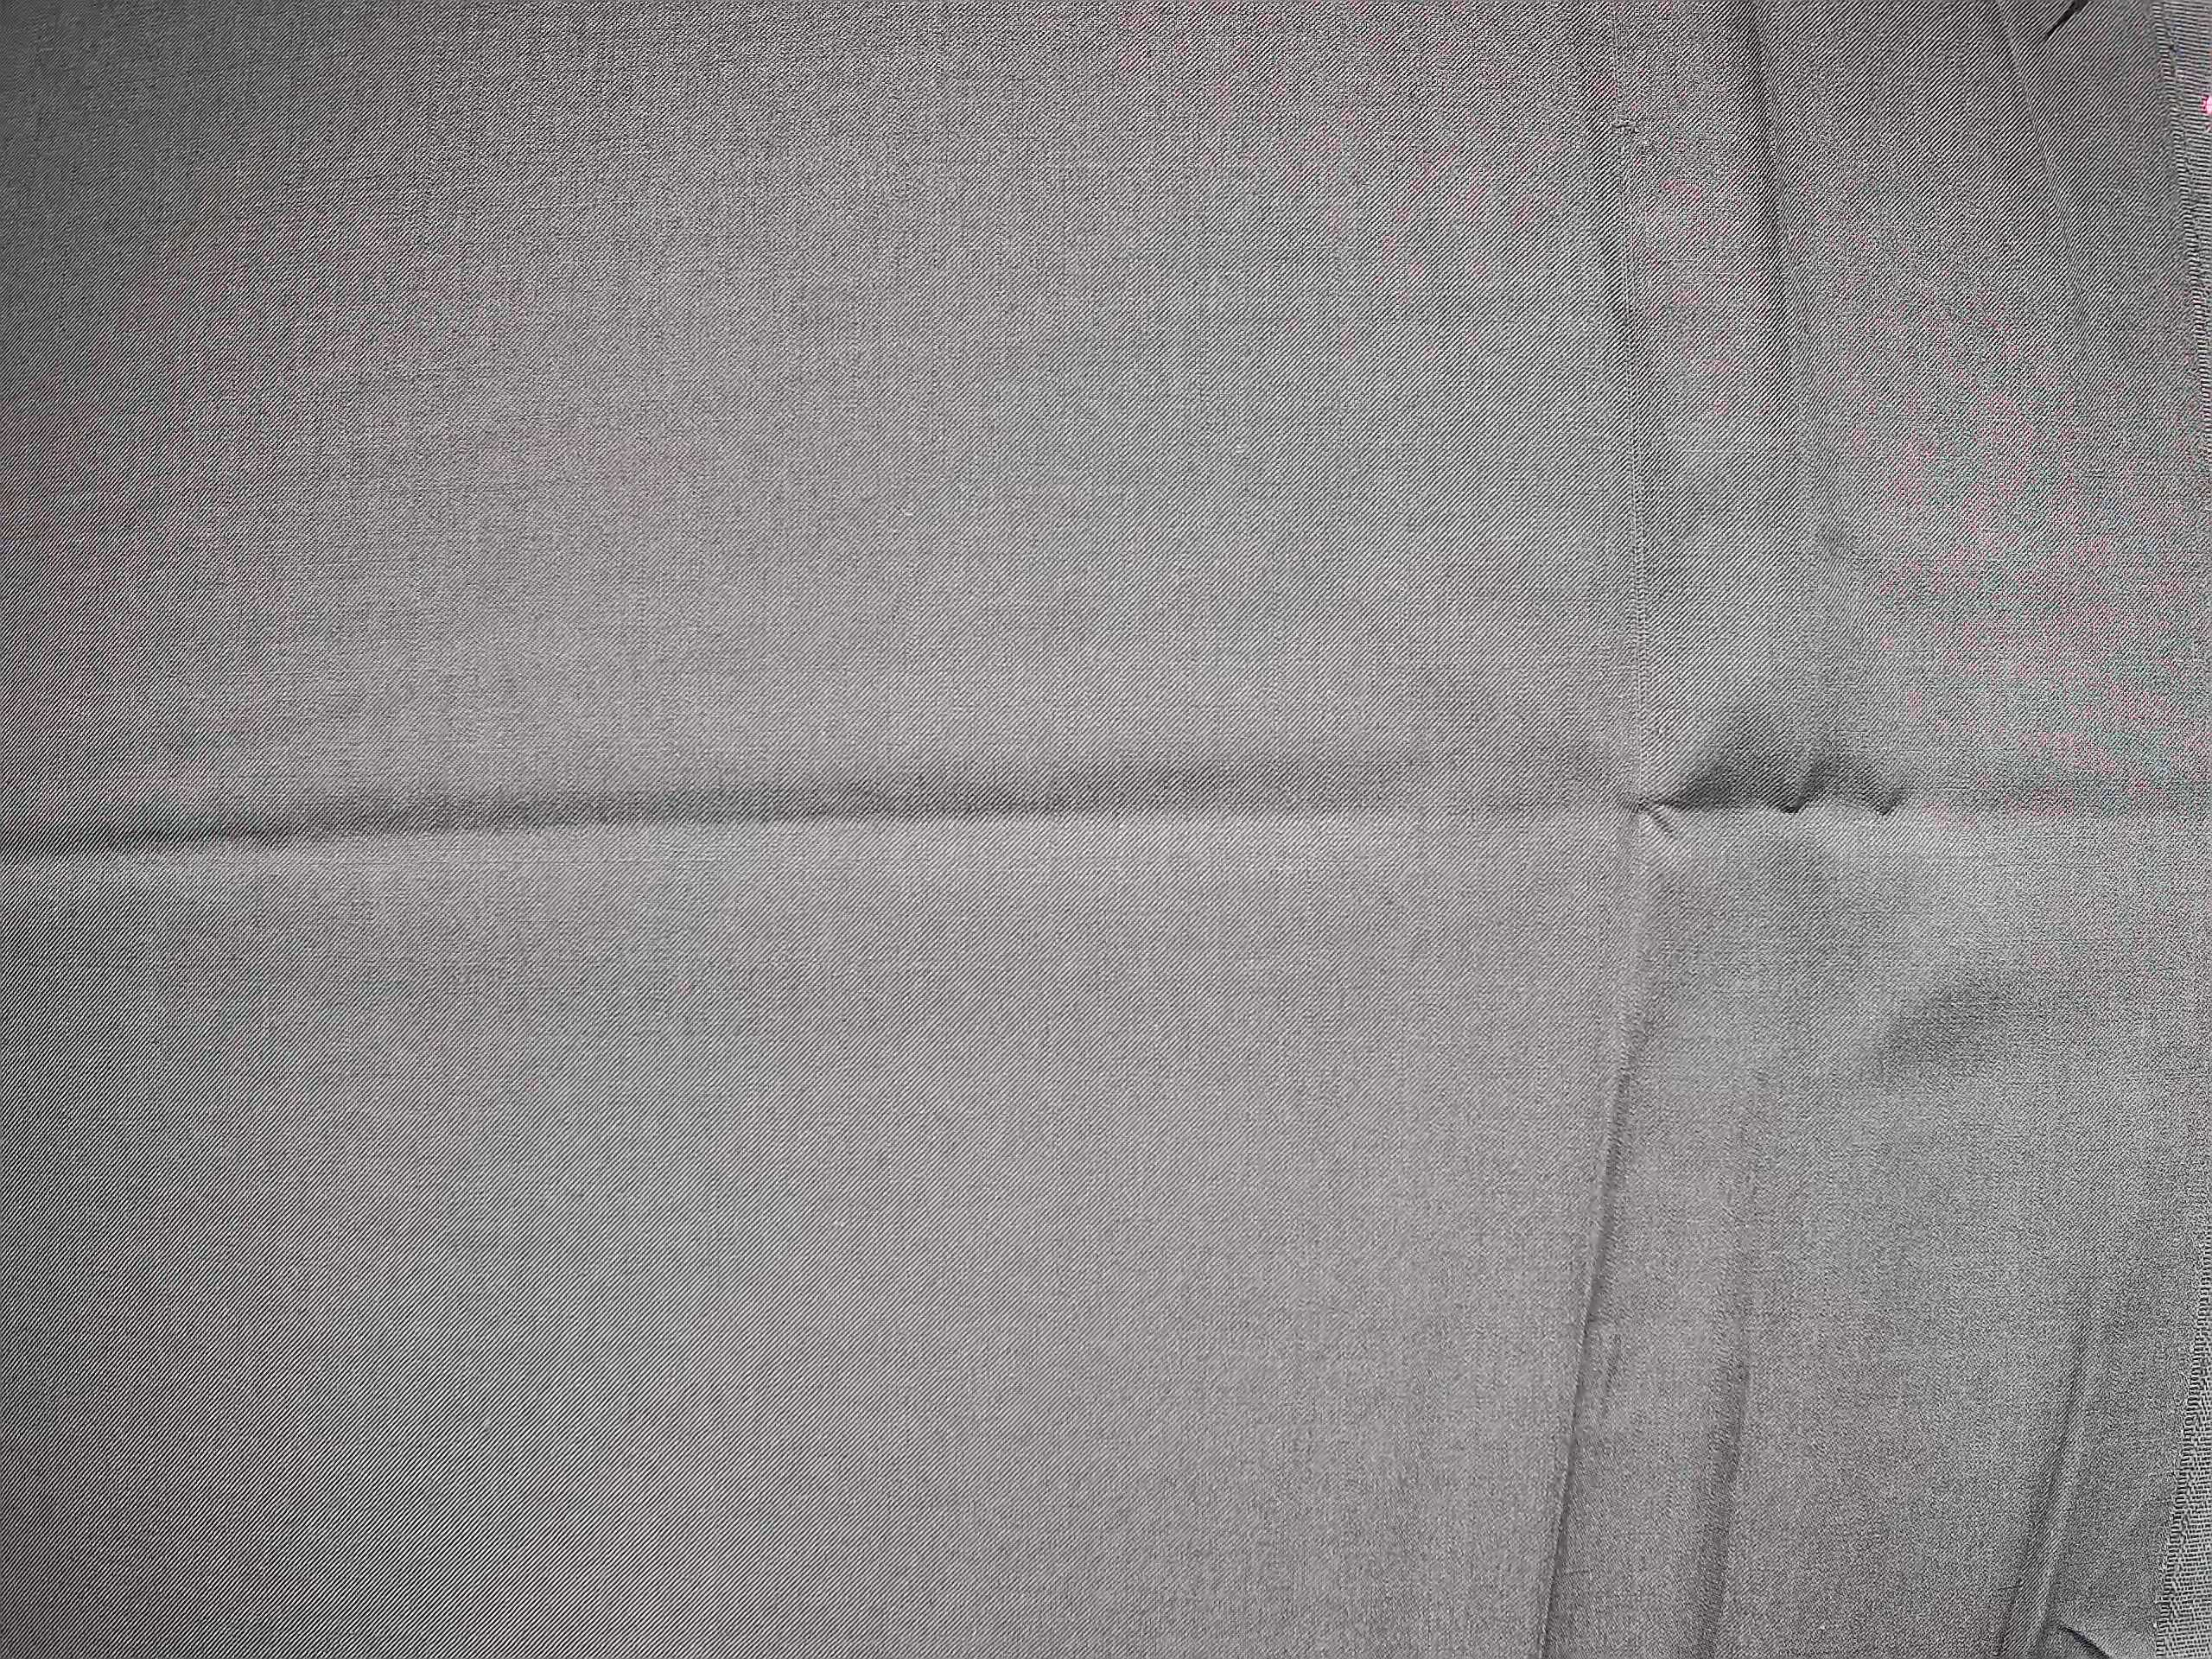hanging-warp: (1594, 91, 1674, 1060)
